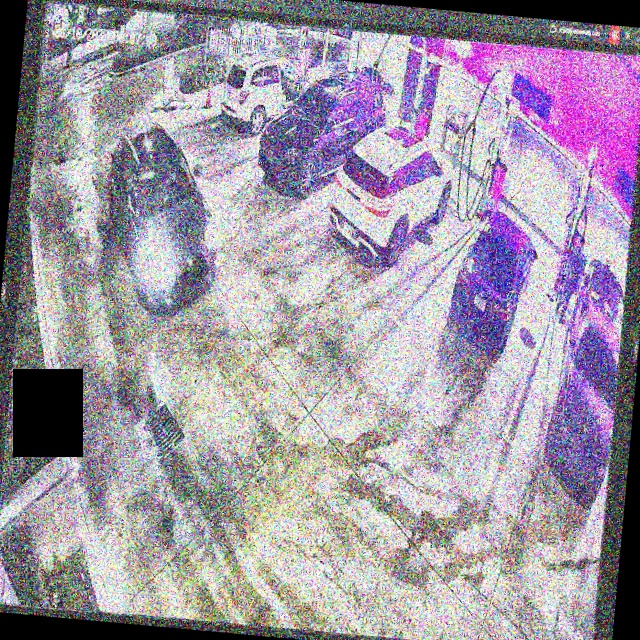Car: (95, 116, 227, 316), (329, 119, 455, 269), (255, 62, 388, 198), (448, 208, 540, 357)
